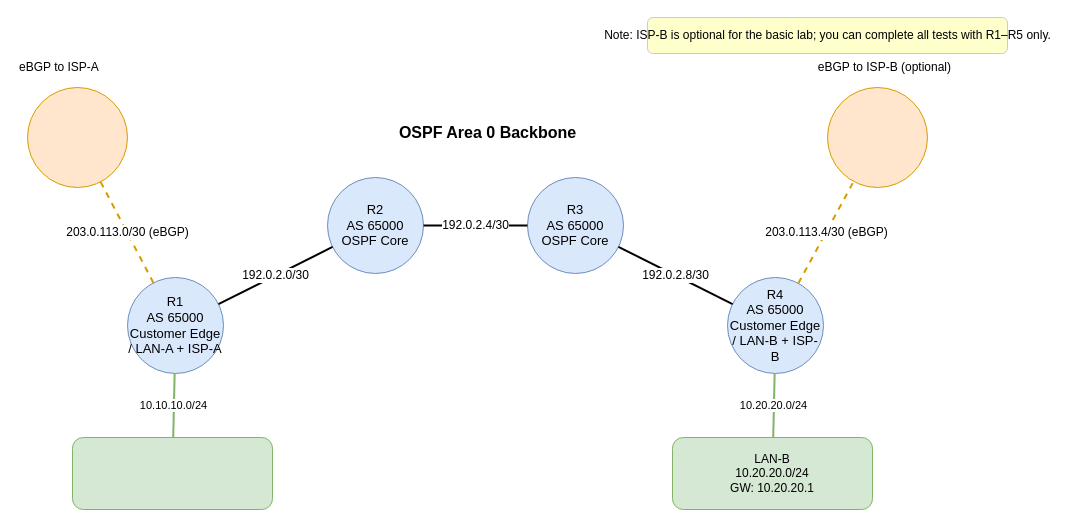
Some shapes in this 1068 by 527 pixel diagram are drawn without their labels. Here are the shapes that lost their labels. From the top down, the centre of each, then its label:
At point 77,137: "R5 ISP-A AS 65100".
At point 877,137: "R6 ISP-B AS 65200".
At point 172,473: "LAN-A 10.10.10.0/24 GW: 10.10.10.1".
